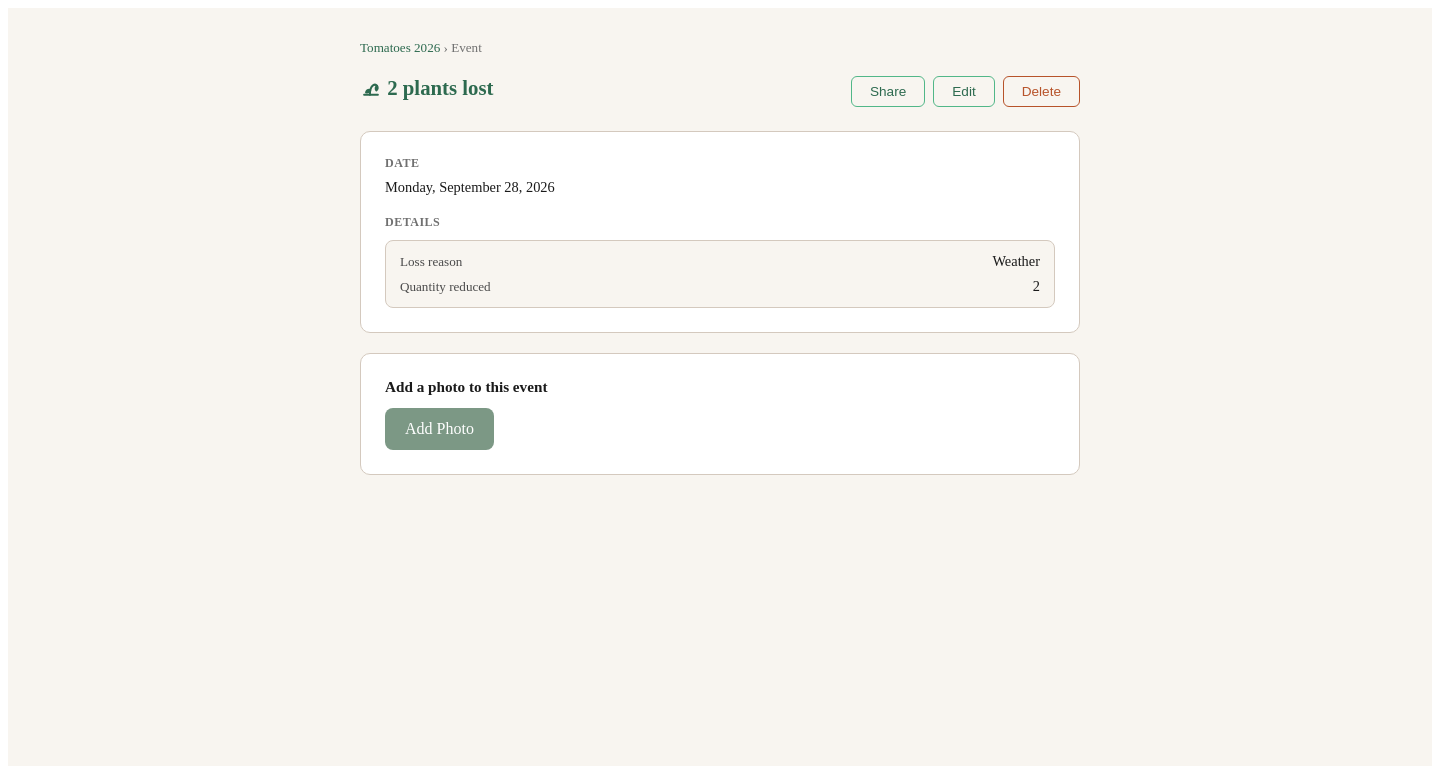
Test: EventDetail — a plants-lost event (BUG-LOSSEVENTLABEL-001) › editing a row stored under the legacy token seeds the select with the new one (V5-LOSSTOKEN-001)
What coordinates should you click on to do the following:
click the button "Edit"
I would click on:
 (964, 92)
Its box is [933,76,995,107].
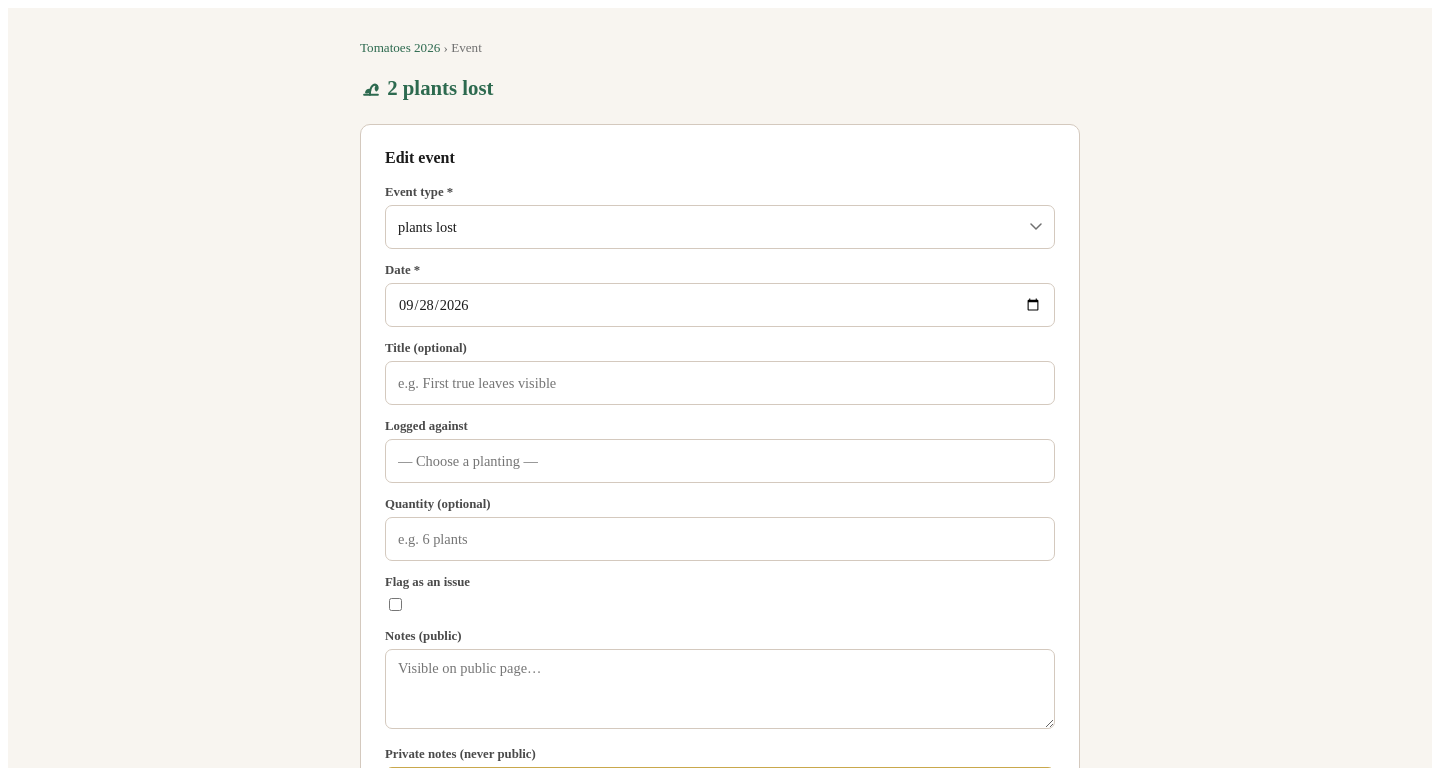
Check: the dropdown with id "ev-event-type" shows "plants lost", box [385,205,1055,249]
